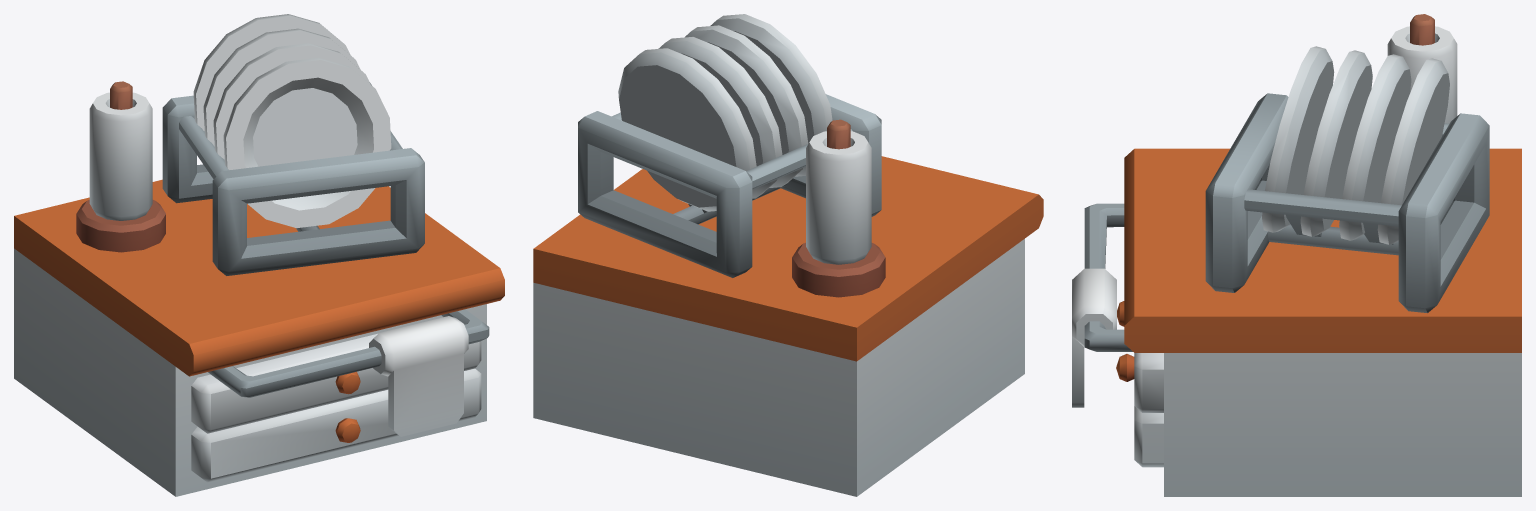
The model's file is kay-kitchencounter_straight_a_decorated.glb.
3 views of the same model, side by side, from view 1: azimuth 30°, elevation 25°; view 2: azimuth 150°, elevation 25°; view 3: azimuth 270°, elevation 25° (orthographic). The views are drawn at different scales.
Parts seen in each view (by area): view 1: kitchencounter_straight_A_decorated; view 2: kitchencounter_straight_A_decorated; view 3: kitchencounter_straight_A_decorated.
Part boxes in pixels (left/top/right/bottom): kitchencounter_straight_A_decorated: left=14, top=14, right=504, bottom=496; kitchencounter_straight_A_decorated: left=533, top=14, right=1043, bottom=496; kitchencounter_straight_A_decorated: left=1072, top=14, right=1521, bottom=496.
Bounding box in the file's own units: 1.06 × 1.11 × 1.2.
1 material, 1 textured.
